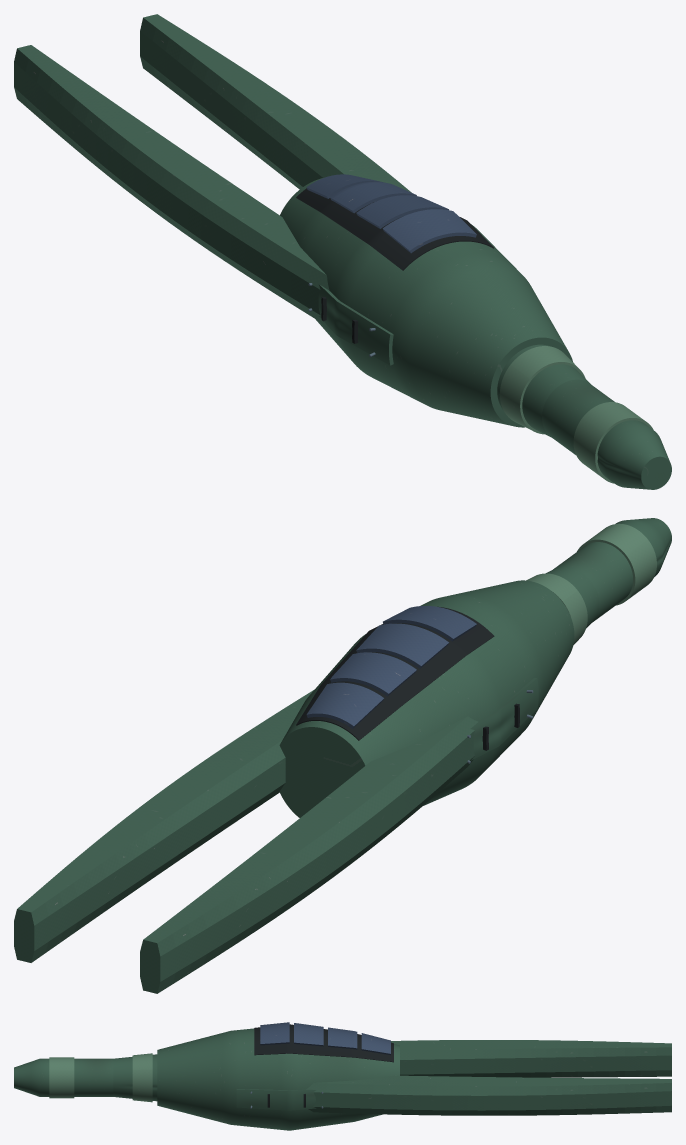
3 views of the same model, one above another, from view 1: azimuth 30°, elevation 25°; view 2: azimuth 150°, elevation 25°; view 3: azimuth 270°, elevation 25° (orthographic). The views are drawn at different scales.
Visible parts, largest first — view 1: Rigellian Flamejell green core, Rigellian Flamejell rear prong 0, Rigellian Flamejell rear prong 1, Rigellian Flamejell green forward end, Rigellian Flamejell centre recess surround, Rigellian Flamejell pale band 1, Rigellian Flamejell service cover 1, Rigellian Flamejell blue centre insert 0, Rigellian Flamejell pale band 0, Rigellian Flamejell forward neck, Rigellian Flamejell blue centre insert 1, Rigellian Flamejell blue centre insert 2 (+1 smaller); view 2: Rigellian Flamejell rear prong 0, Rigellian Flamejell green core, Rigellian Flamejell rear prong 1, Rigellian Flamejell centre recess surround, Rigellian Flamejell green forward end, Rigellian Flamejell blue centre insert 1, Rigellian Flamejell blue centre insert 2, Rigellian Flamejell pale band 0, Rigellian Flamejell blue centre insert 3, Rigellian Flamejell service cover 1, Rigellian Flamejell blue centre insert 0, Rigellian Flamejell pale band 1 (+1 smaller); view 3: Rigellian Flamejell green core, Rigellian Flamejell rear prong 1, Rigellian Flamejell rear prong 0, Rigellian Flamejell green forward end, Rigellian Flamejell centre recess surround, Rigellian Flamejell service cover 0, Rigellian Flamejell forward neck, Rigellian Flamejell pale band 0, Rigellian Flamejell pale band 1, Rigellian Flamejell blue centre insert 0, Rigellian Flamejell blue centre insert 1, Rigellian Flamejell blue centre insert 2 (+1 smaller).
Part boxes in pixels (box(x1,y1,x2,y2)): Rigellian Flamejell green core: box(280, 178, 572, 427); Rigellian Flamejell rear prong 0: box(14, 45, 329, 325); Rigellian Flamejell rear prong 1: box(140, 14, 411, 192); Rigellian Flamejell green forward end: box(542, 379, 671, 489); Rigellian Flamejell centre recess surround: box(296, 188, 493, 270); Rigellian Flamejell pale band 1: box(499, 346, 585, 434); Rigellian Flamejell service cover 1: box(318, 284, 393, 365); Rigellian Flamejell blue centre insert 0: box(382, 209, 476, 253); Rigellian Flamejell pale band 0: box(573, 402, 653, 483); Rigellian Flamejell forward neck: box(497, 344, 590, 436); Rigellian Flamejell blue centre insert 1: box(356, 195, 448, 228); Rigellian Flamejell blue centre insert 2: box(330, 181, 416, 213); Rigellian Flamejell rear prong 0: box(140, 716, 478, 993); Rigellian Flamejell green core: box(279, 580, 574, 817); Rigellian Flamejell rear prong 1: box(14, 690, 313, 962); Rigellian Flamejell centre recess surround: box(296, 606, 494, 740); Rigellian Flamejell green forward end: box(553, 518, 671, 622); Rigellian Flamejell blue centre insert 1: box(356, 623, 449, 668); Rigellian Flamejell blue centre insert 2: box(330, 652, 416, 696); Rigellian Flamejell pale band 0: box(577, 523, 656, 605); Rigellian Flamejell blue centre insert 3: box(306, 682, 384, 728); Rigellian Flamejell service cover 1: box(470, 678, 538, 760); Rigellian Flamejell blue centre insert 0: box(383, 606, 476, 641); Rigellian Flamejell pale band 1: box(526, 573, 587, 644); Rigellian Flamejell green core: box(157, 1028, 399, 1130); Rigellian Flamejell rear prong 1: box(306, 1075, 671, 1115); Rigellian Flamejell rear prong 0: box(391, 1040, 671, 1077); Rigellian Flamejell green forward end: box(14, 1058, 113, 1096); Rigellian Flamejell centre recess surround: box(254, 1024, 393, 1062); Rigellian Flamejell service cover 0: box(236, 1089, 316, 1110); Rigellian Flamejell forward neck: box(113, 1054, 157, 1101); Rigellian Flamejell pale band 0: box(49, 1057, 74, 1098); Rigellian Flamejell pale band 1: box(132, 1053, 152, 1102); Rigellian Flamejell blue centre insert 0: box(260, 1022, 289, 1045); Rigellian Flamejell blue centre insert 1: box(294, 1023, 323, 1046); Rigellian Flamejell blue centre insert 2: box(328, 1027, 357, 1049).
Bounding box in the file's own units: 0.408 × 0.369 × 2.24.
Materials: 5 (3 with a texture image).
